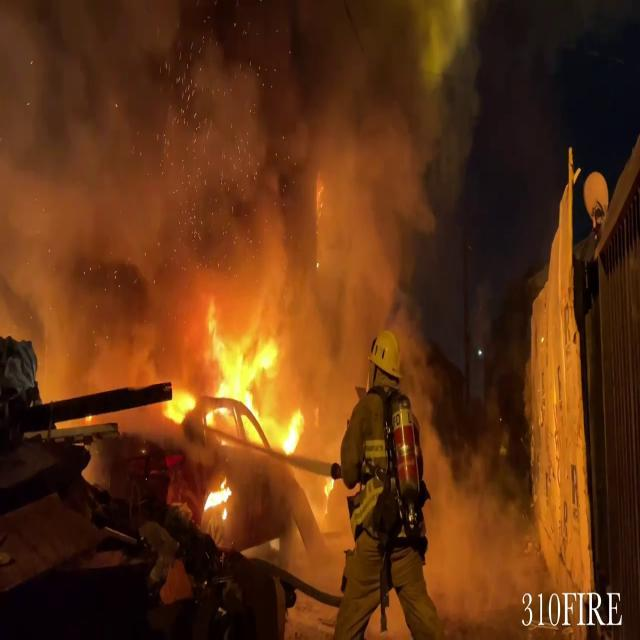Fire: (159, 310, 309, 463), (201, 479, 236, 517)
Smoke: (0, 0, 439, 392), (414, 418, 528, 632)
